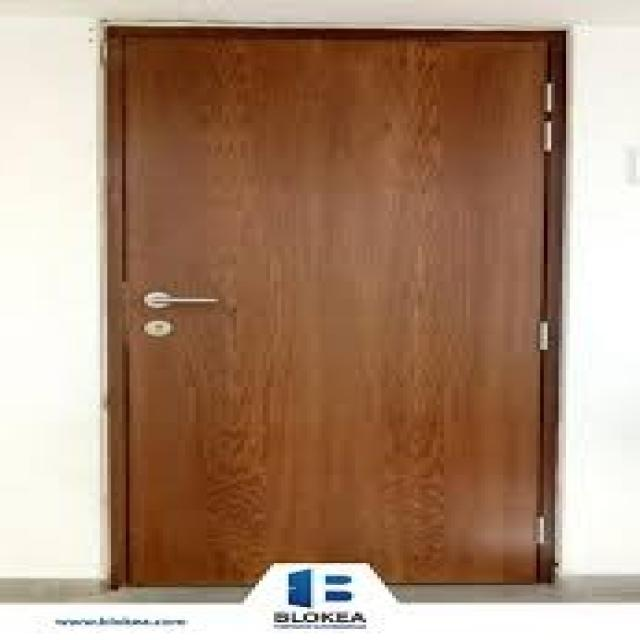door: (104, 24, 566, 587)
